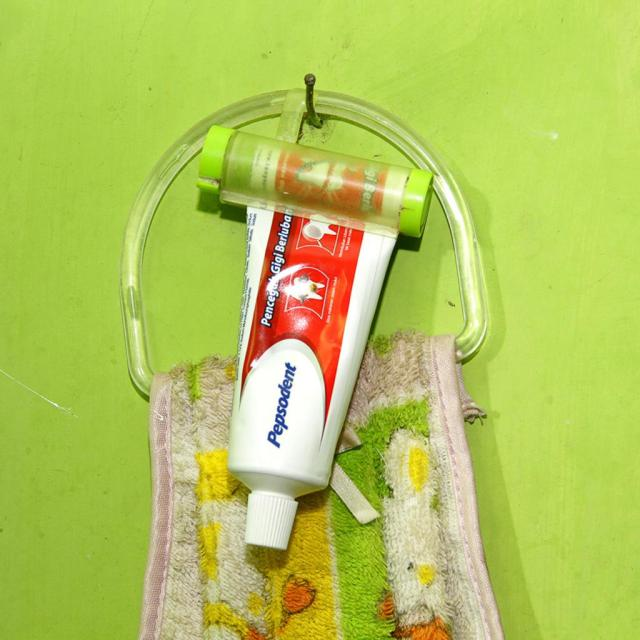Toothpaste: (215, 195, 398, 548), (188, 119, 444, 244)
